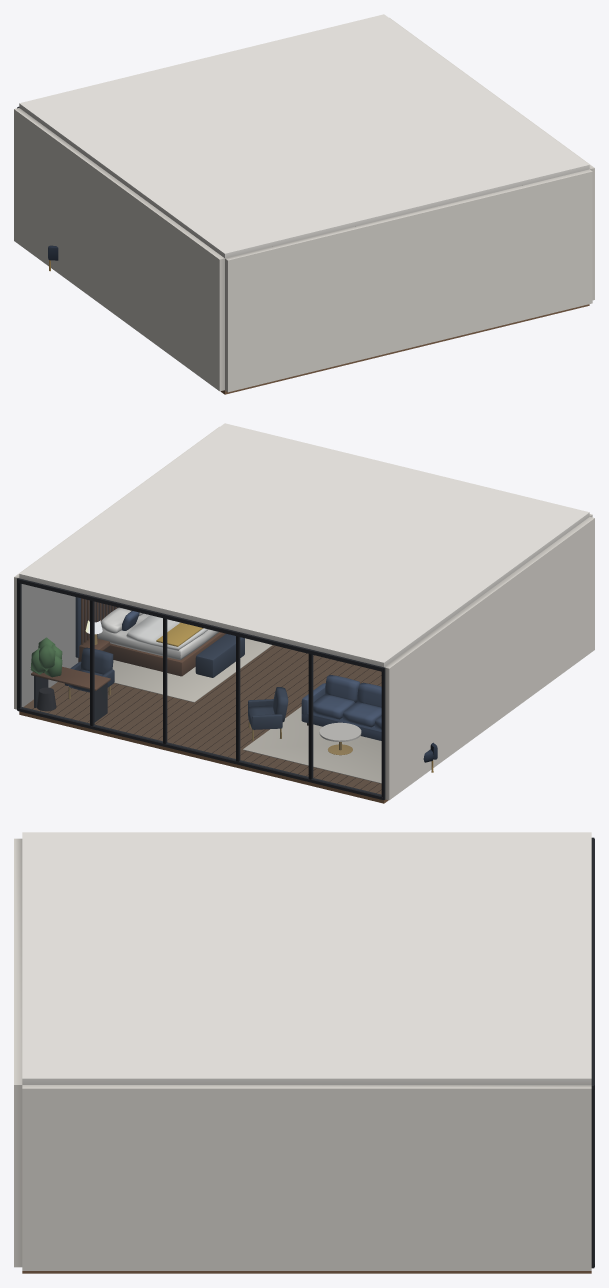
Rendered from tk-corner.glb.
3 renders of one model, top to bottom at view 1: azimuth 30°, elevation 25°; view 2: azimuth 150°, elevation 25°; view 3: azimuth 270°, elevation 25°, orthographic. The views are drawn at different scales.
Parts seen in each view (by area): view 1: Room_wall, Room_ceiling, Room_floor; view 2: Room_ceiling, Room_glass, Room_wall, Room_floor, Room_frameDark, Room_rug, Room_fabric, Room_fabric2, Room_wood, Room_woodDark, Room_linen, Room_duvet (+4 smaller); view 3: Room_ceiling, Room_wall, Room_frameDark, Room_floor.
Boxes of the visible parts, x1,y1,x2,y2 form: Room_wall: (14,17,594,392); Room_ceiling: (19,14,589,258); Room_floor: (220,304,589,394); Room_ceiling: (19,423,589,667); Room_glass: (21,584,380,794); Room_wall: (14,426,594,800); Room_floor: (19,645,388,803); Room_frameDark: (17,578,385,800); Room_rug: (112,638,381,783); Room_fabric: (122,611,381,740); Room_fabric2: (65,634,437,762); Room_wood: (31,598,225,690); Room_woodDark: (32,645,381,793); Room_linen: (97,607,218,660); Room_duvet: (126,615,208,650); Room_ceiling: (22,832,591,1084); Room_wall: (14,838,591,1270); Room_frameDark: (591,837,594,1268); Room_floor: (22,1271,591,1273).
Bounding box in the file's own units: 8.8 × 3.1 × 8.37.
